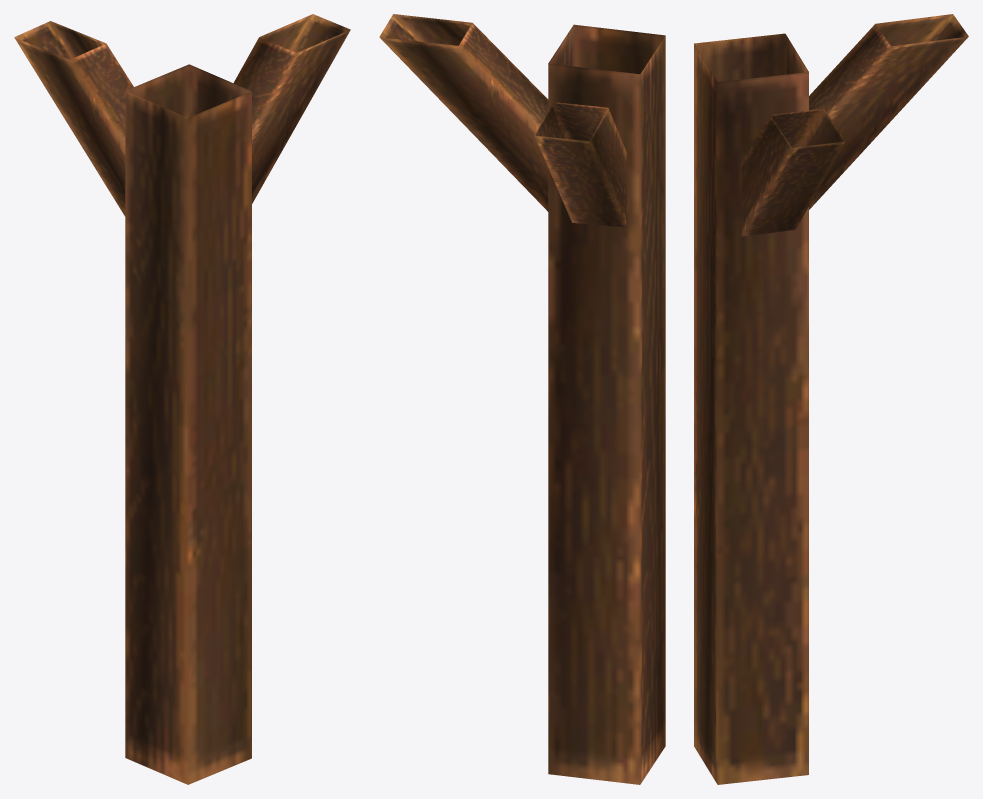
The model's file is SWORDLIGHT20_JAILPLATSUPPORT77.fbx.
The picture shows the model from 3 angles, left to right: view 1: azimuth 30°, elevation 25°; view 2: azimuth 150°, elevation 25°; view 3: azimuth 270°, elevation 25°; orthographic projection. The views are drawn at different scales.
Visible parts, largest first — view 1: SWORDLIGHT20_JAILPLATSUPPORT77; view 2: SWORDLIGHT20_JAILPLATSUPPORT77; view 3: SWORDLIGHT20_JAILPLATSUPPORT77.
Part boxes in pixels (x1,y1,x2,y2): SWORDLIGHT20_JAILPLATSUPPORT77: (14, 14, 350, 784); SWORDLIGHT20_JAILPLATSUPPORT77: (379, 14, 665, 784); SWORDLIGHT20_JAILPLATSUPPORT77: (694, 14, 968, 784).
Bounding box in the file's own units: 13415 × 32999 × 11644.
1 material, 1 textured.
